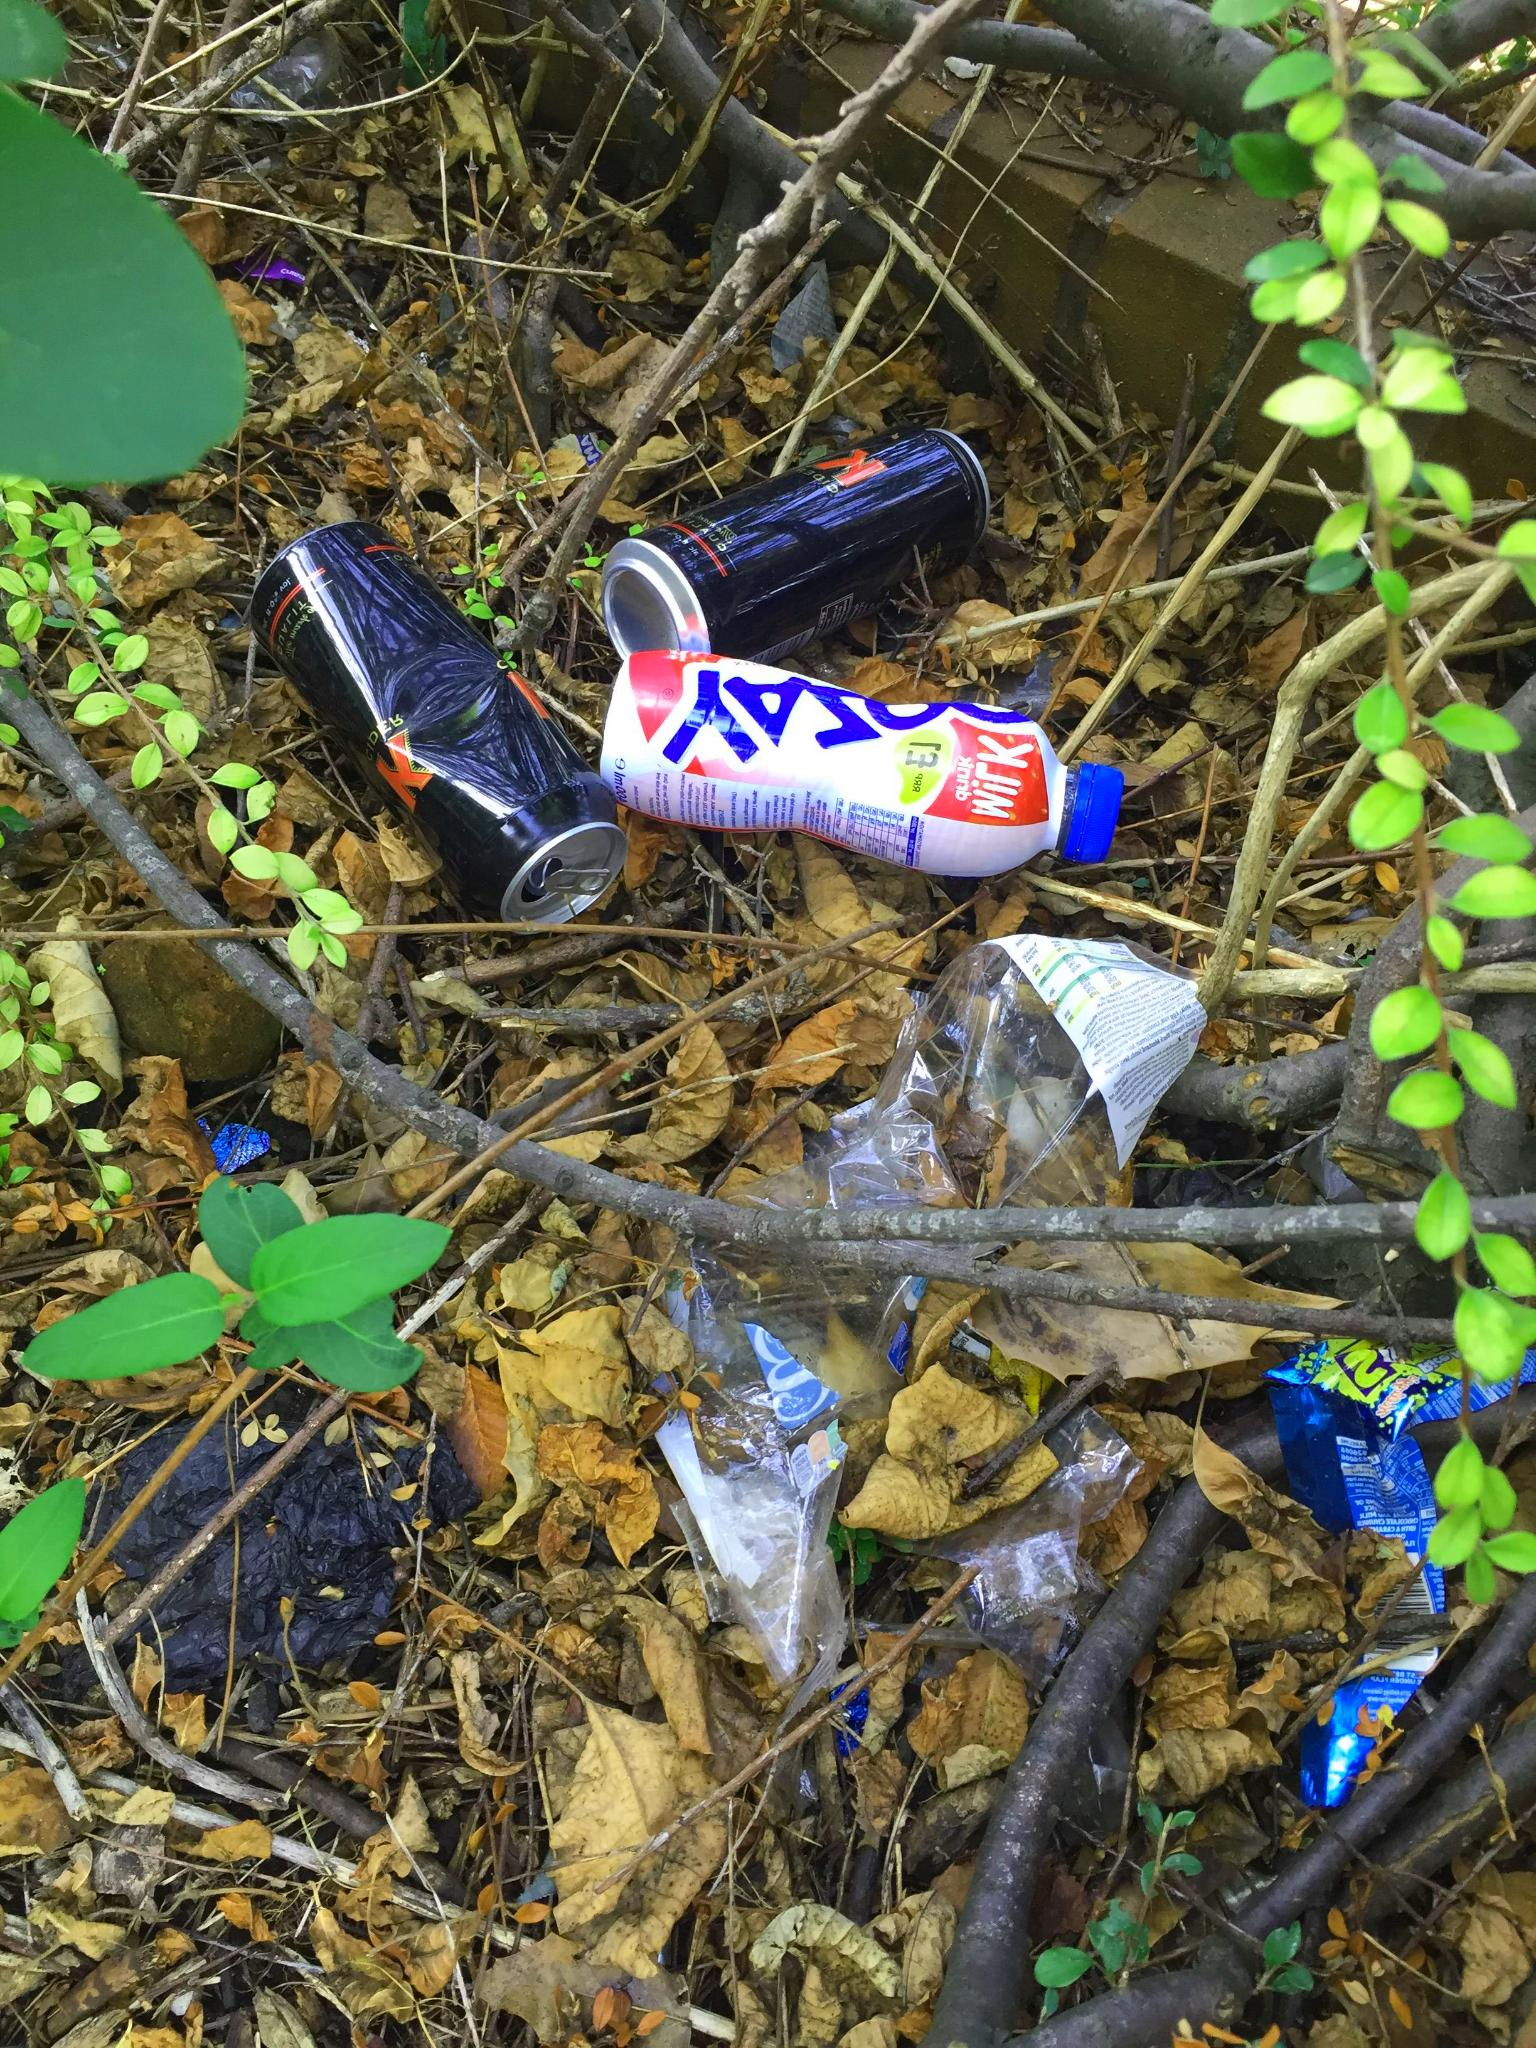Metal: (227, 505, 657, 947), (576, 408, 1008, 697)
Plastic: (620, 905, 1217, 1700), (1260, 1321, 1536, 1816)
